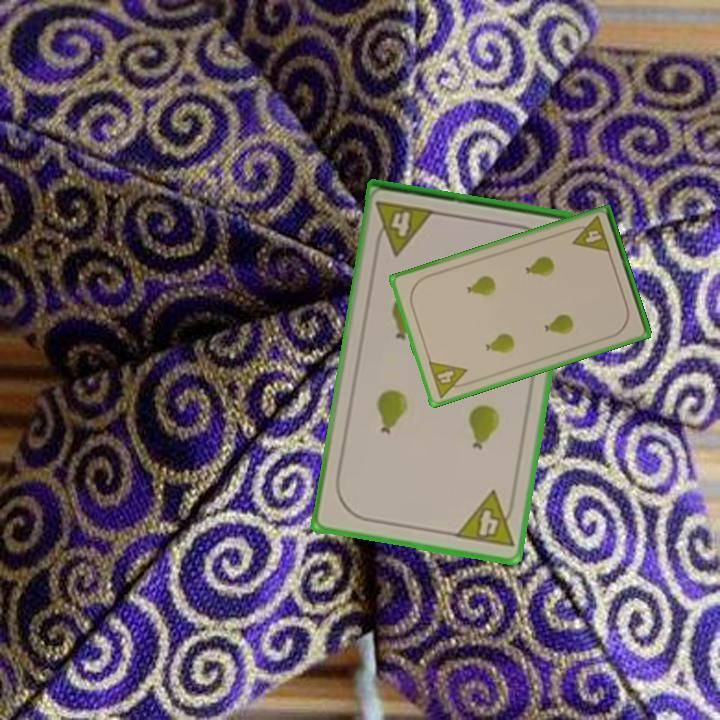4p: (451, 487, 519, 551), (371, 197, 438, 258), (425, 357, 474, 401), (566, 213, 613, 256)
